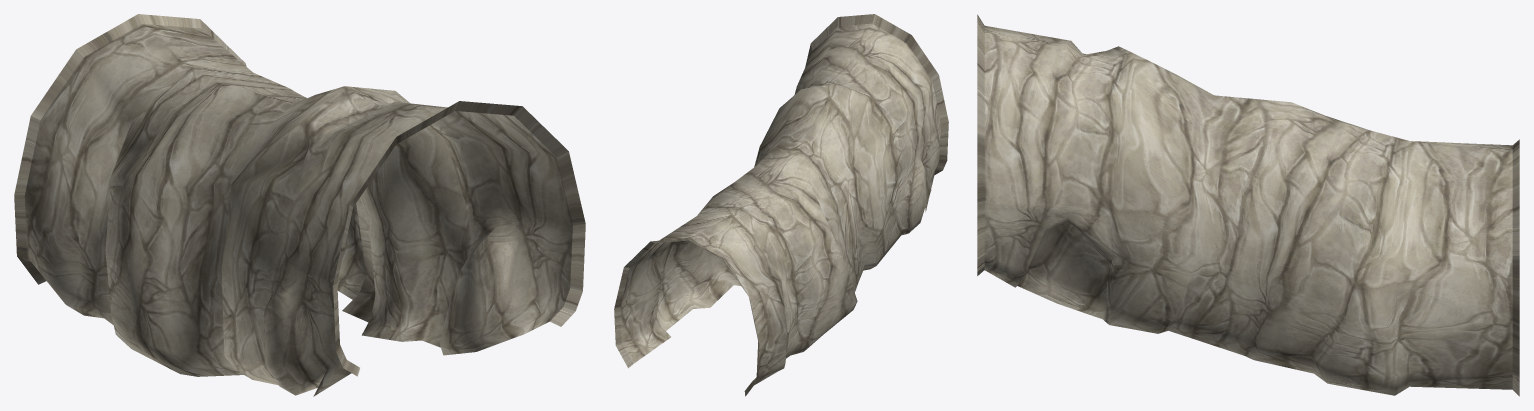
File: cave ceiling straight slope.FBX
3 views of the same model, side by side, from view 1: azimuth 30°, elevation 25°; view 2: azimuth 150°, elevation 25°; view 3: azimuth 270°, elevation 25° (orthographic). The views are drawn at different scales.
Visible parts, largest first — view 1: cave ceiling straight slope; view 2: cave ceiling straight slope; view 3: cave ceiling straight slope.
Boxes of the visible parts, x1=… form: cave ceiling straight slope: x1=14, y1=14, x2=585, y2=396; cave ceiling straight slope: x1=614, y1=14, x2=948, y2=396; cave ceiling straight slope: x1=977, y1=14, x2=1519, y2=396.
Bounding box in the file's own units: 19.84 × 27.85 × 41.09.
